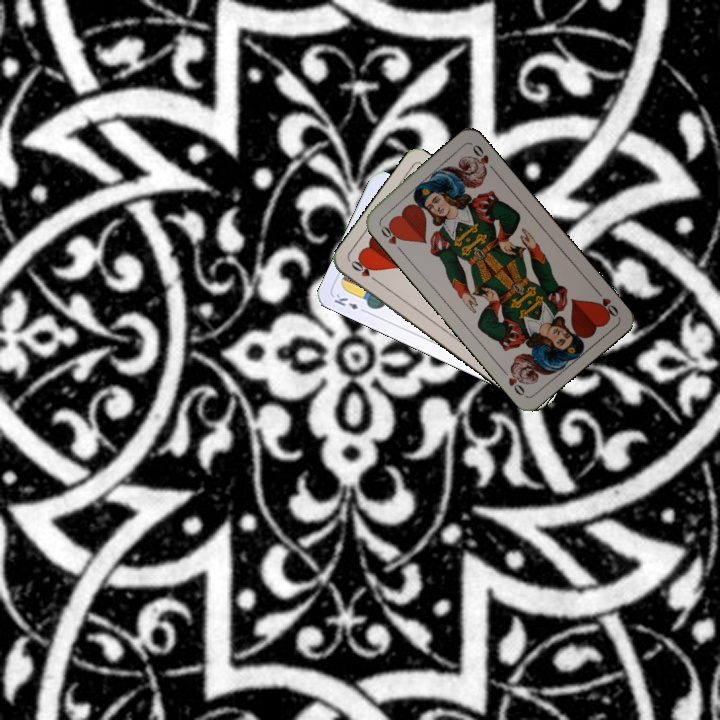EK: (330, 290, 369, 315)
HO: (375, 219, 406, 254), (591, 284, 621, 320), (347, 256, 381, 286)
